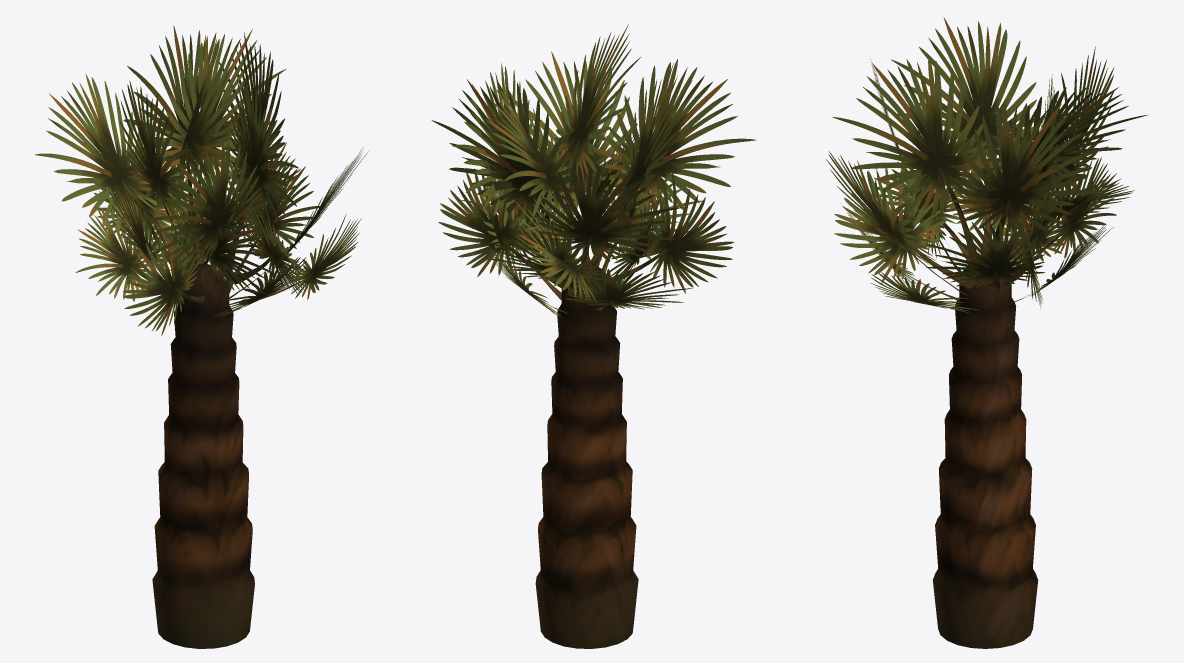
The model's file is CabbagePalm1.fbx.
3 views of the same model, side by side, from view 1: azimuth 30°, elevation 25°; view 2: azimuth 150°, elevation 25°; view 3: azimuth 270°, elevation 25° (orthographic). The views are drawn at different scales.
Visible parts, largest first — view 1: Trunk, pPlane3 (×4), pPlane4 (×4), pPlane5 (×3), pPlane2 (×3), pPlane6, pPlane8, pPlane1; view 2: Trunk, pPlane3 (×4), pPlane4 (×4), pPlane2 (×4), pPlane6, pPlane7, pPlane5 (×2), pPlane1; view 3: Trunk, pPlane4 (×4), pPlane3 (×3), pPlane2 (×3), pPlane5 (×4), pPlane8, pPlane1, pPlane7.
Boxes of the visible parts, <box> form: Trunk: <box>152,263,254,648</box>; pPlane3 (×4): <box>123,25,298,285</box>; pPlane4 (×4): <box>35,32,369,301</box>; pPlane5 (×3): <box>75,202,361,305</box>; pPlane2 (×3): <box>99,158,325,318</box>; pPlane6: <box>123,212,204,335</box>; pPlane8: <box>231,192,307,295</box>; pPlane1: <box>94,146,187,278</box>; Trunk: <box>535,263,638,648</box>; pPlane3 (×4): <box>431,24,755,273</box>; pPlane4 (×4): <box>452,51,692,281</box>; pPlane2 (×4): <box>480,162,702,300</box>; pPlane6: <box>611,171,734,293</box>; pPlane7: <box>438,163,566,288</box>; pPlane5 (×2): <box>485,246,692,317</box>; pPlane1: <box>513,199,596,301</box>; Trunk: <box>932,258,1038,648</box>; pPlane4 (×4): <box>826,17,1114,296</box>; pPlane3 (×3): <box>832,55,1148,284</box>; pPlane2 (×3): <box>926,145,1116,307</box>; pPlane5 (×4): <box>851,153,1113,312</box>; pPlane8: <box>834,150,975,288</box>; pPlane1: <box>1023,176,1134,239</box>; pPlane7: <box>1004,208,1042,307</box>.
Size of the model in its own units: 8.17 by 15.5 by 8.66.
2 materials, 2 textured.
